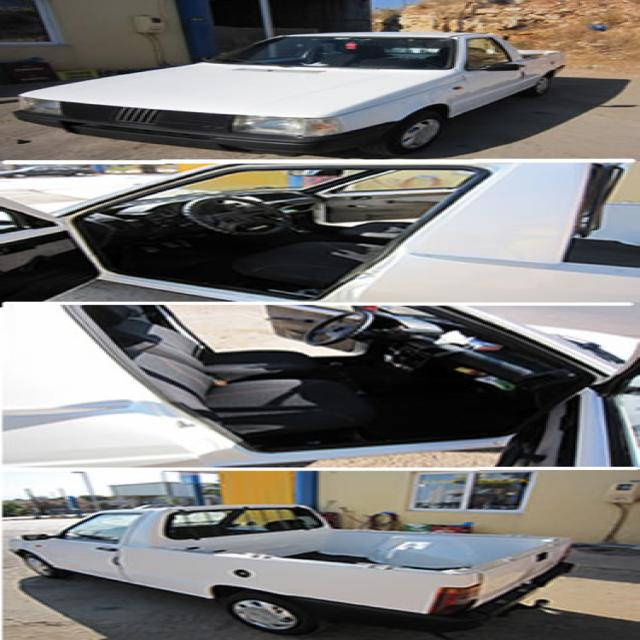car: (0, 503, 570, 633), (3, 32, 555, 157)
